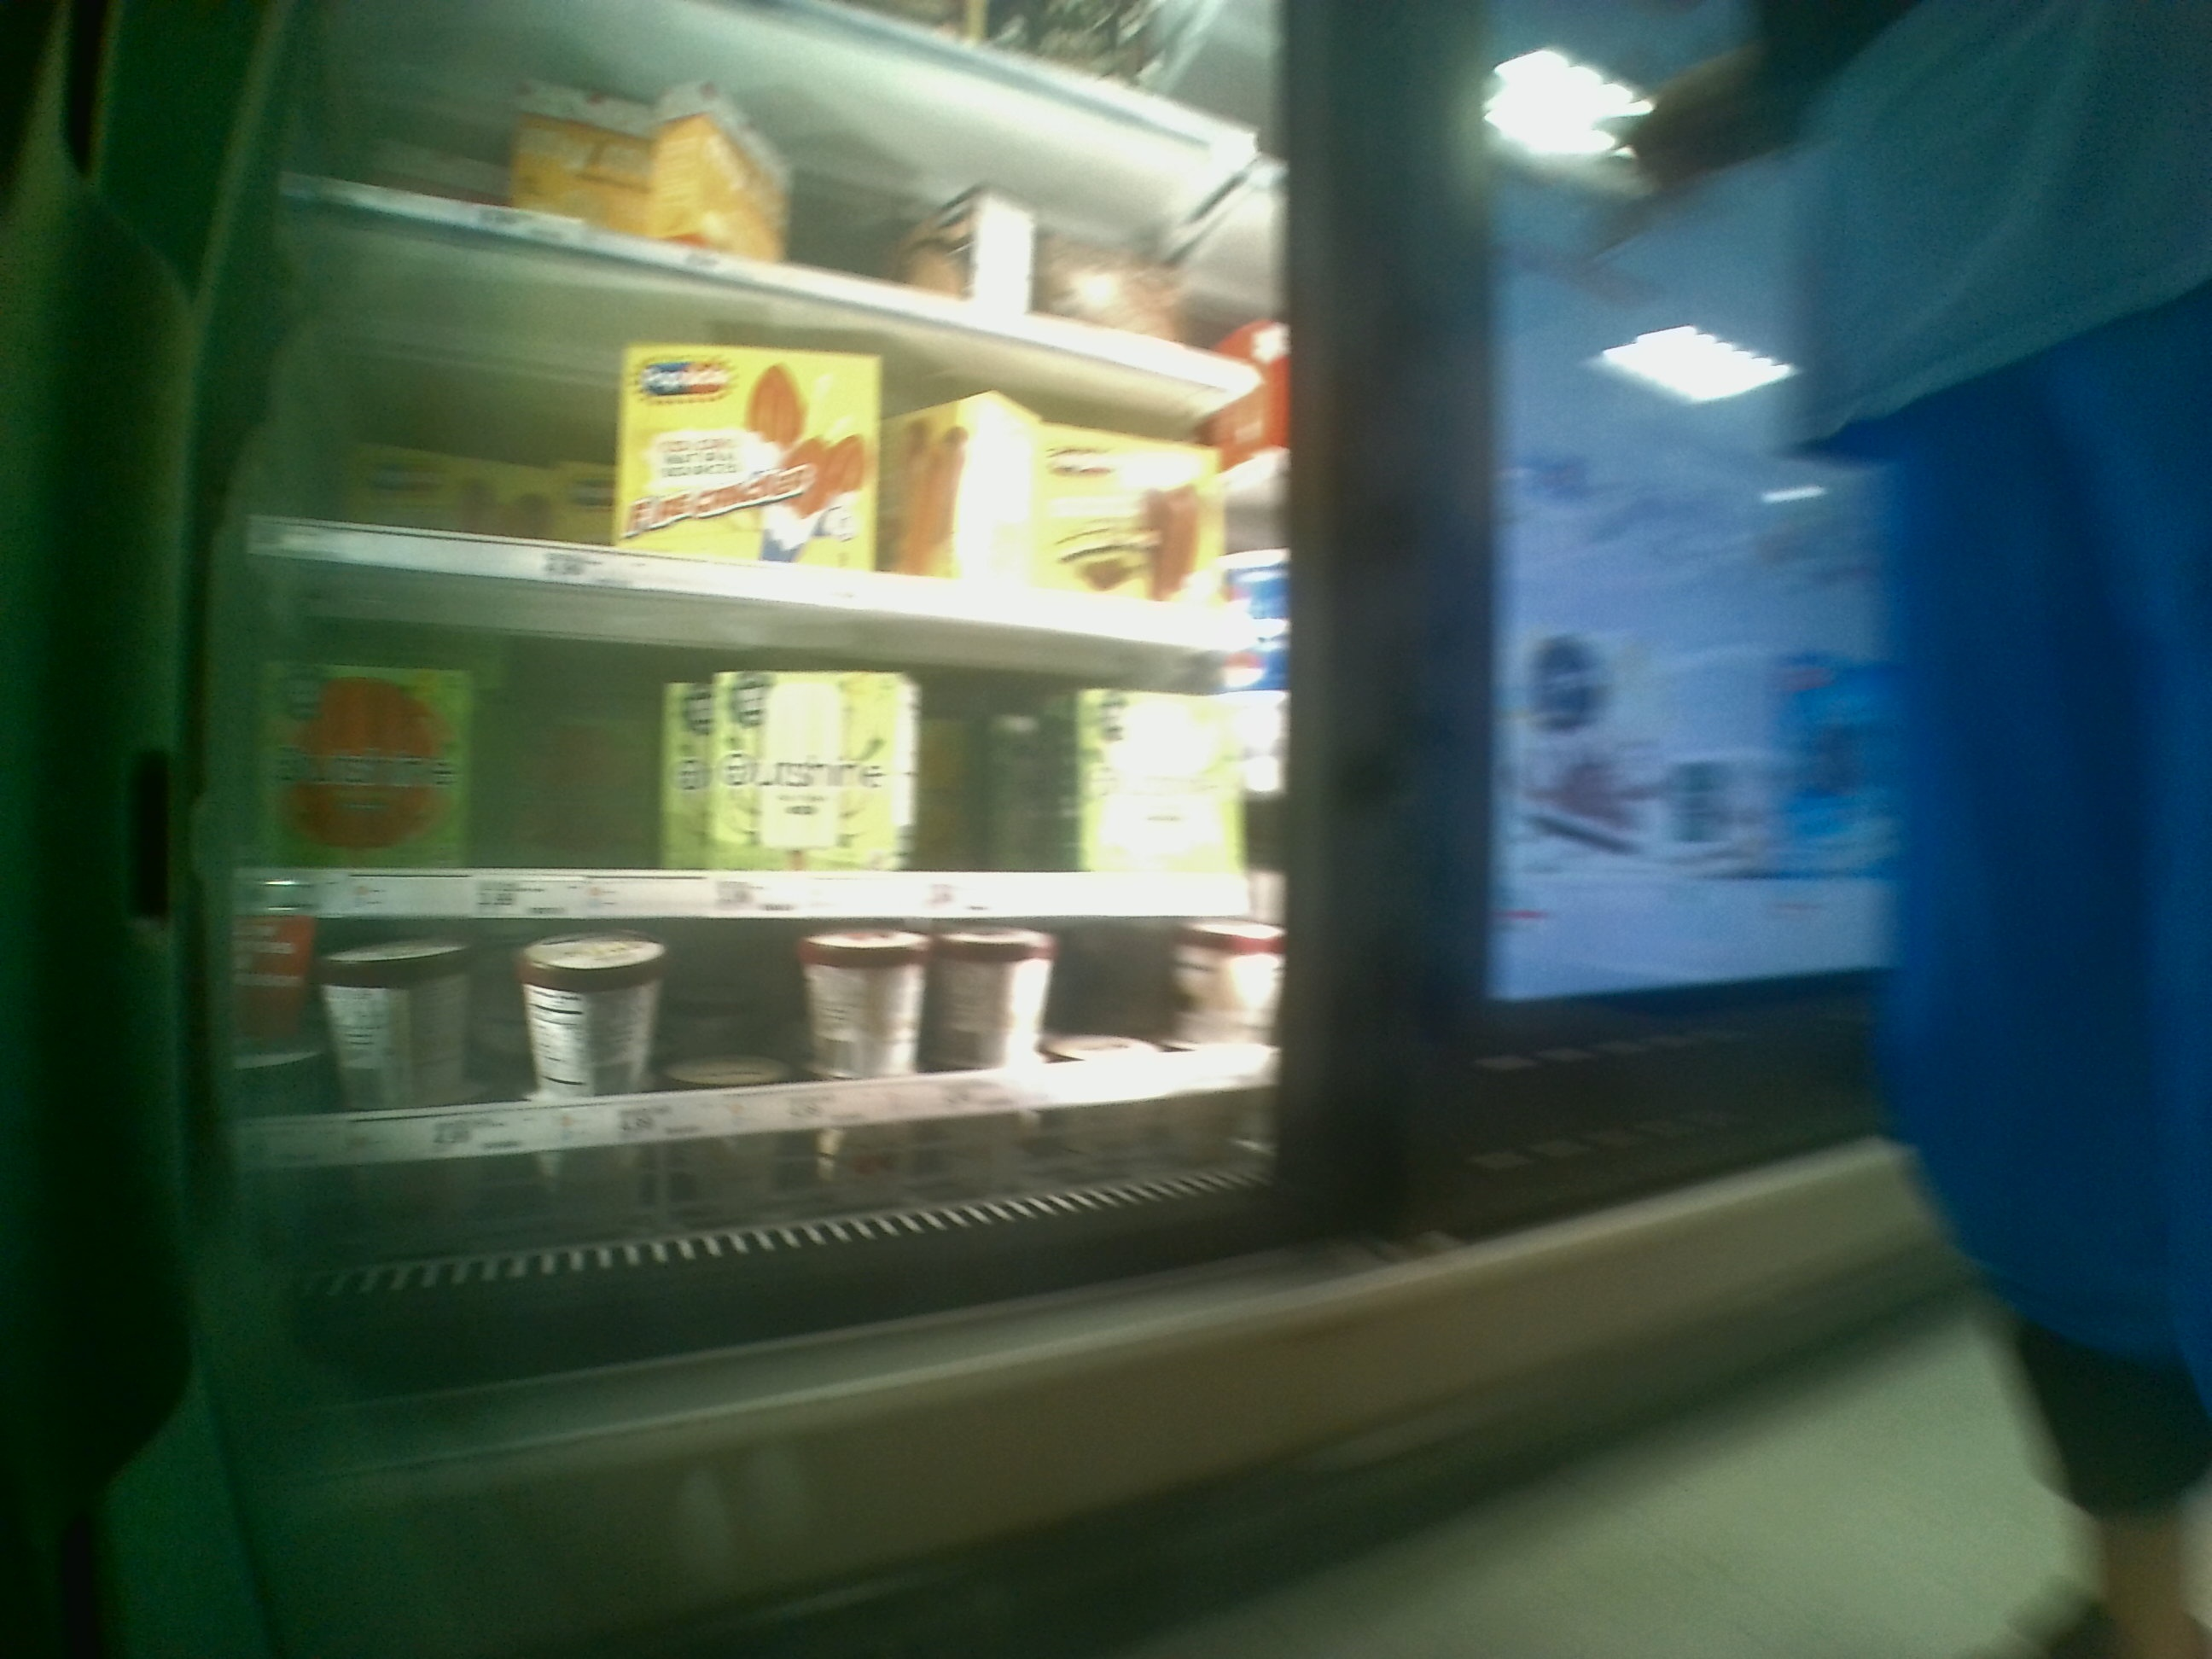shelf: (273, 199, 1270, 659), (251, 556, 1270, 918), (240, 918, 1282, 1206)
